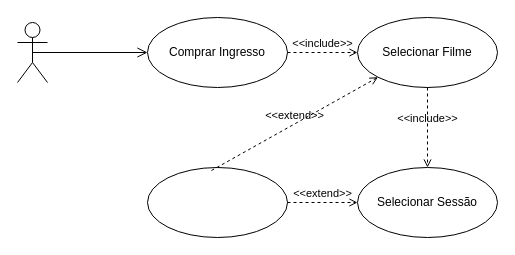
The diagram is 515 pixels wide and 255 high, and some of its shapes have lost their labels. Here are the shapes that lost their labels. From the top down, the centre of each, then its label:
At pixel 32 52: "Actor".
At pixel 217 202: "Cancelar Compra".
